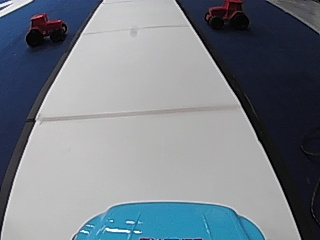tractor: (23, 11, 68, 46), (202, 0, 248, 31)
